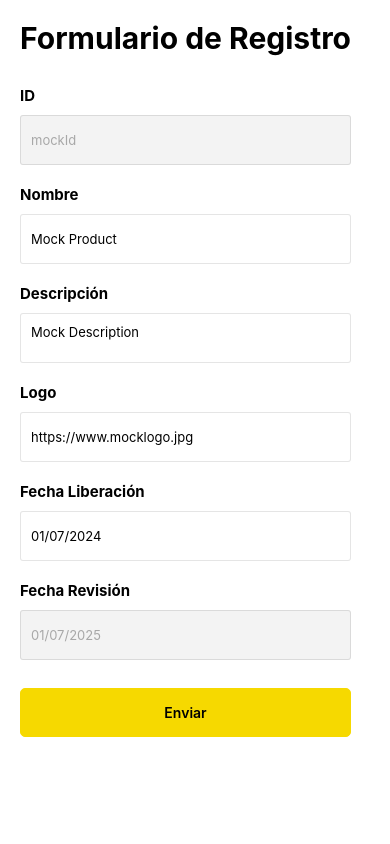
CreateEditContainer › Submit form with valid data
Replace the text in the field with placeholder "Tarjeta Crédito" below "Nombre" with "Nuevo Nombre" at (186, 239), box [20,214,351,264]
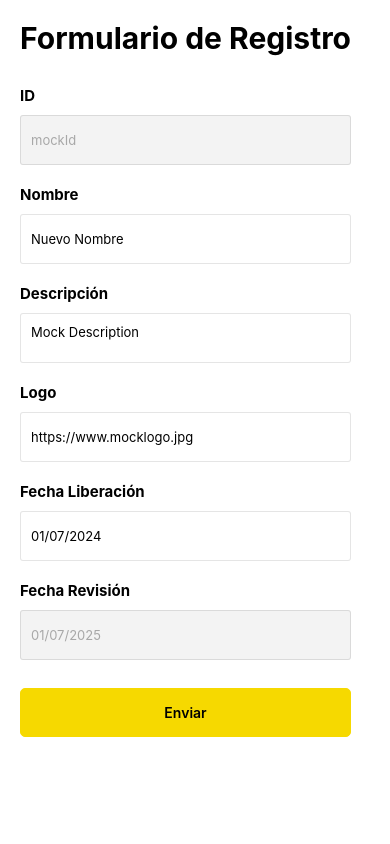
Replace the text in the text box with placeholder "Descripción..." with "Nueva Descripción" at (186, 338), box [20,313,351,363]
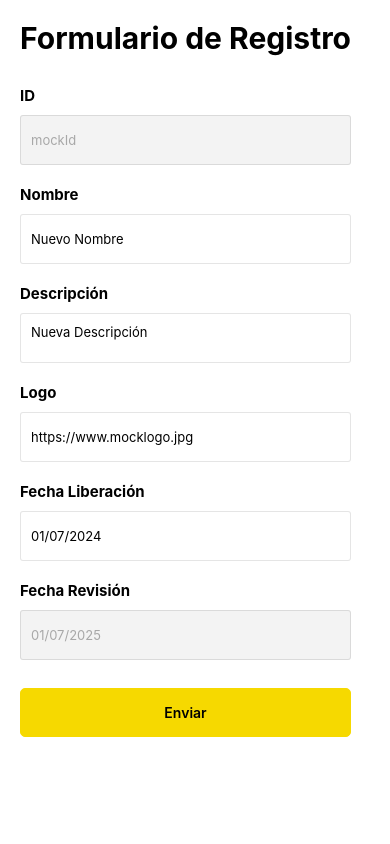
Click the text "Enviar".
click(186, 712)  # box [20,688,351,737]
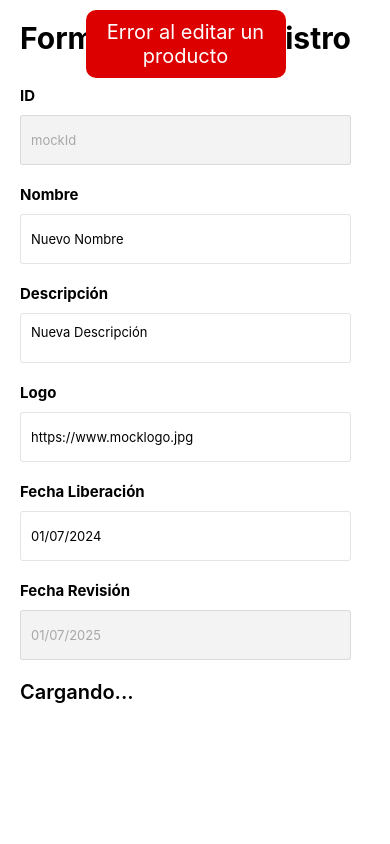
Result: the text "Cargando..." is shown at [20,680,134,704]
